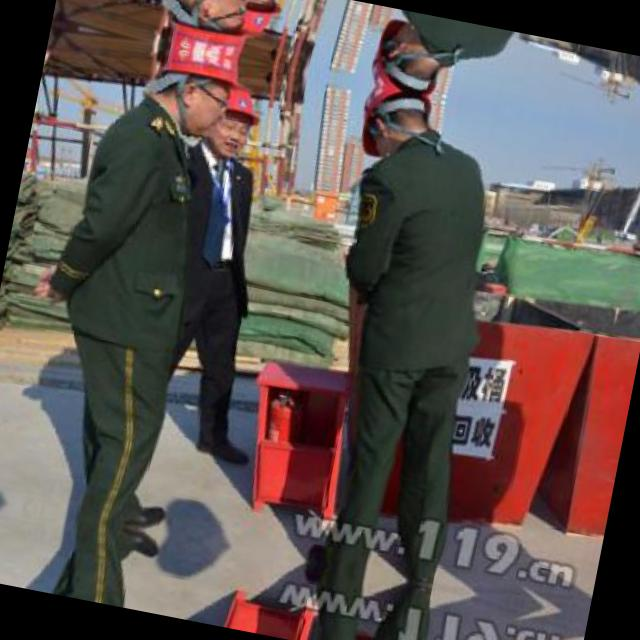helmet: (151, 46, 255, 150), (348, 85, 444, 171), (362, 12, 458, 98), (168, 0, 273, 63), (203, 84, 264, 160), (225, 0, 285, 40)
